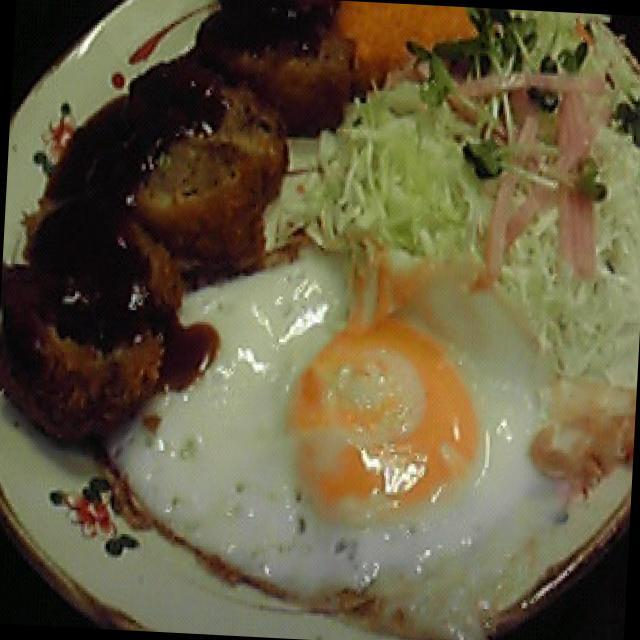Egg: (142, 248, 560, 626), (339, 1, 640, 327)
